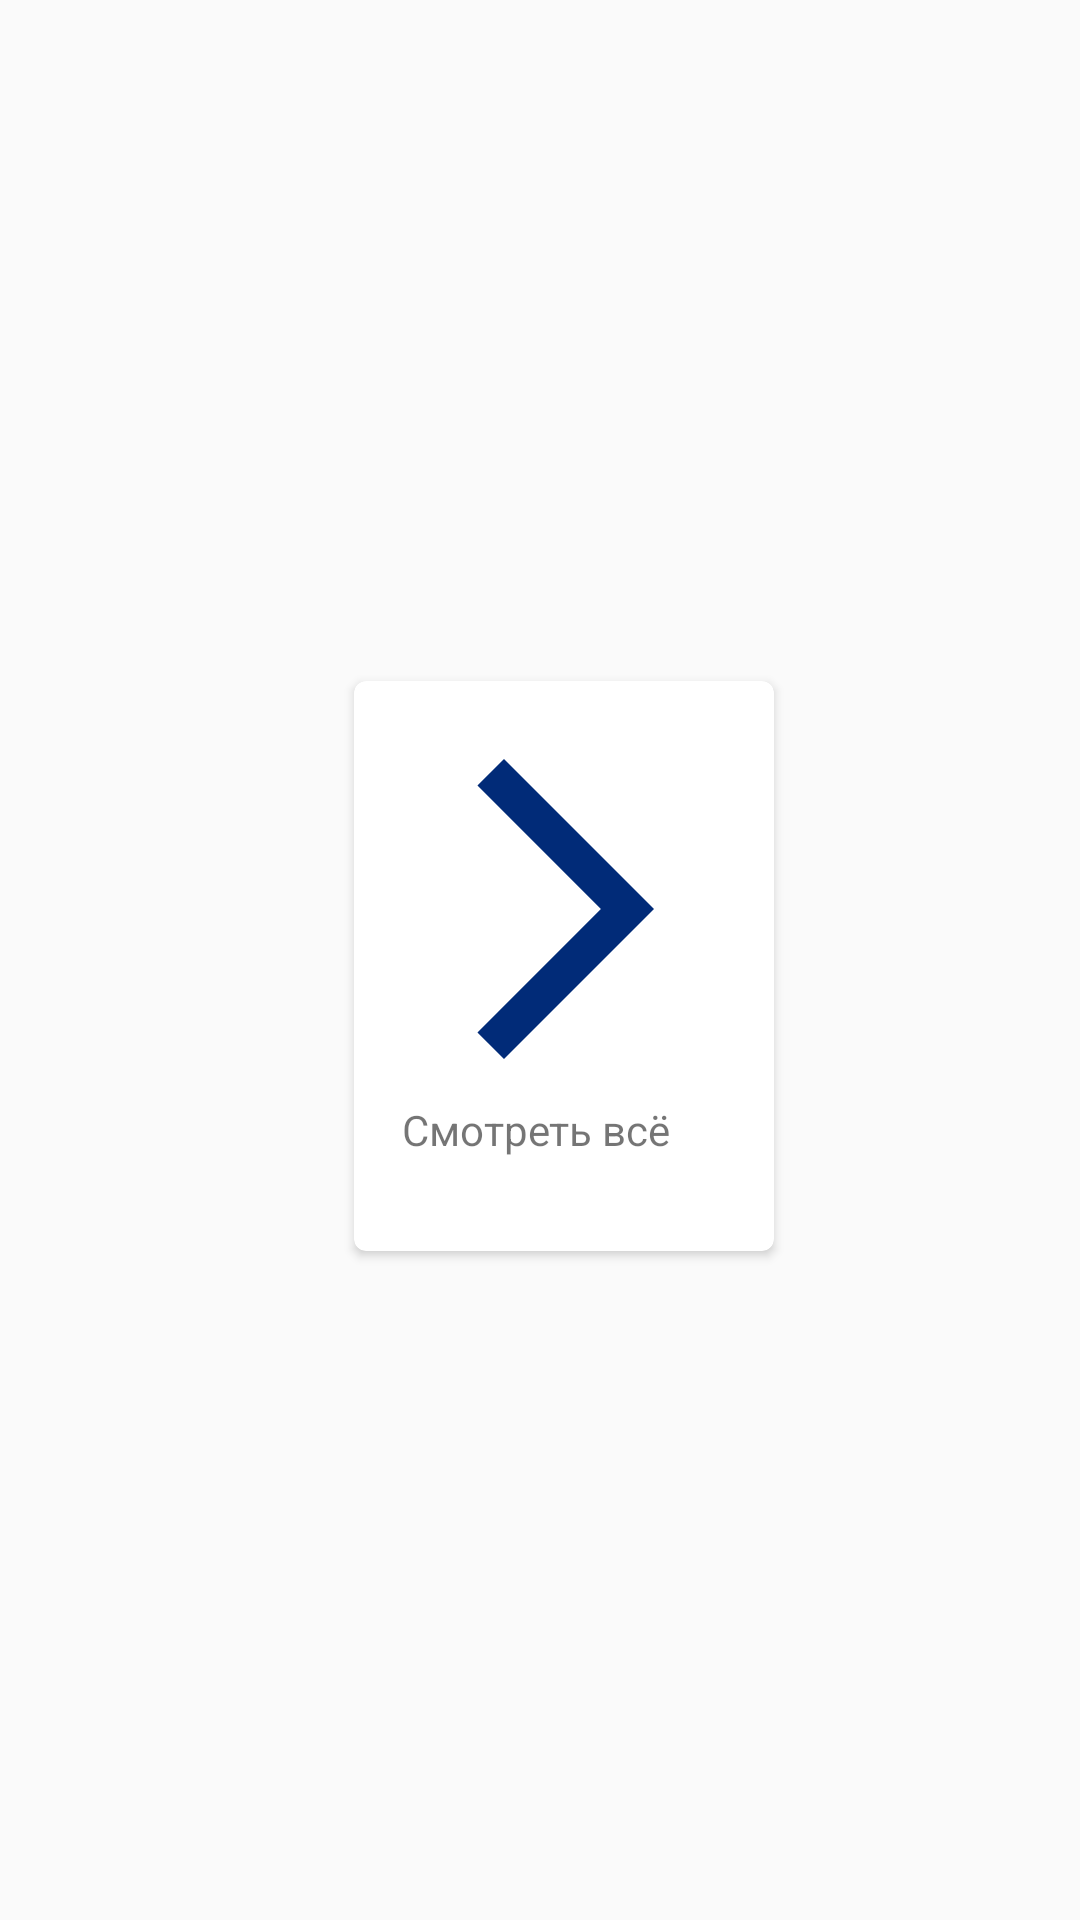

Named icons in this screenshot (1080x1920) and their centers, (x=x, y=y):
arrow forward: (x=565, y=909)
